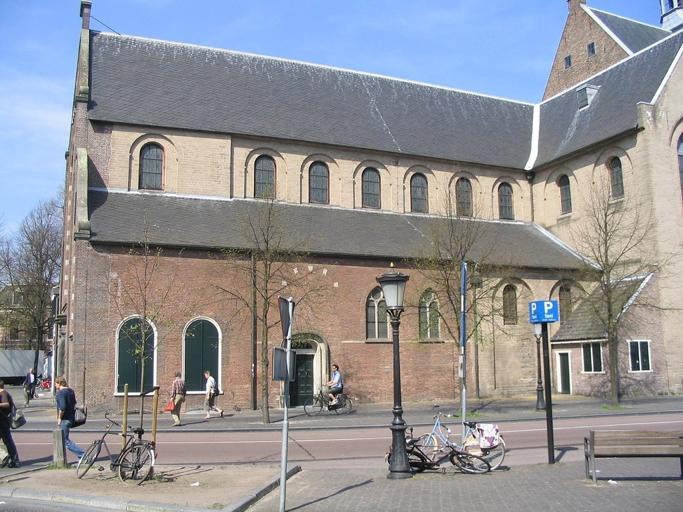non-vehicle: (413, 403, 507, 470), (75, 411, 156, 485), (385, 428, 491, 475), (303, 383, 360, 417)
